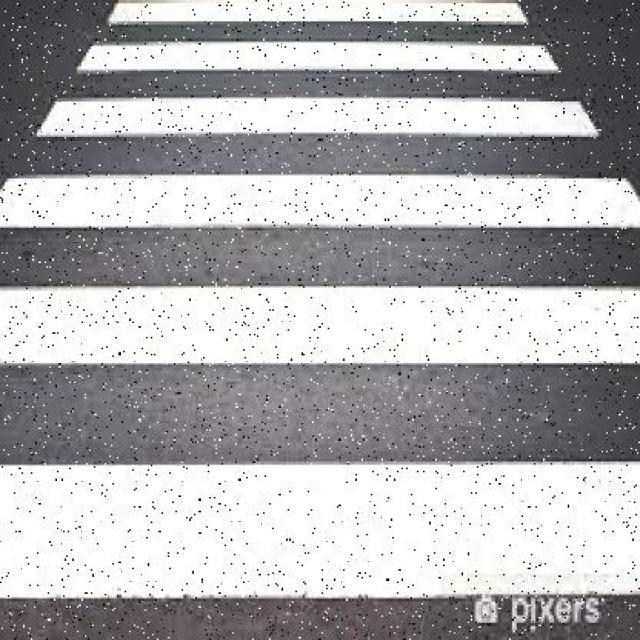intact_crosswalk: (0, 1, 640, 601)
